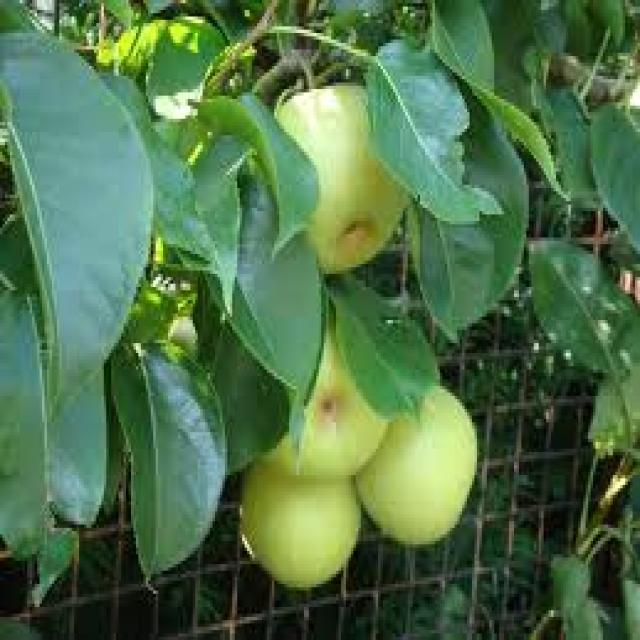Organik: (273, 82, 408, 254), (359, 366, 473, 542), (260, 320, 383, 468), (238, 451, 373, 583)
